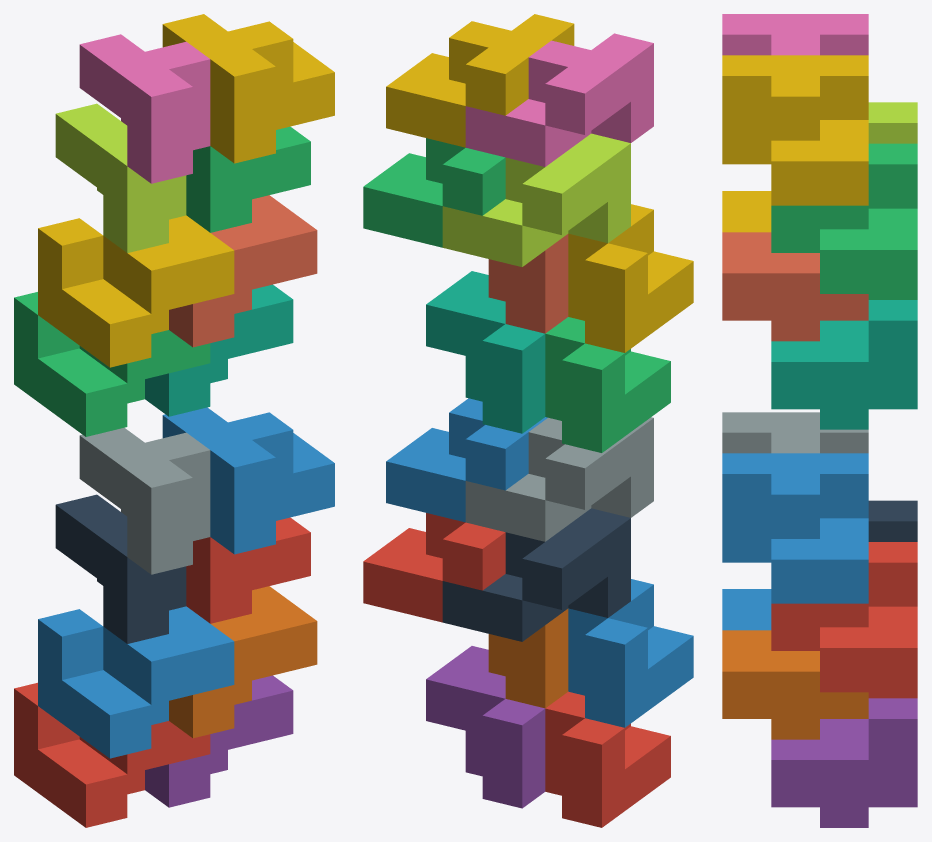
Rendered from tiling.obj.
3 renders of one model, left to right at view 1: azimuth 30°, elevation 25°; view 2: azimuth 150°, elevation 25°; view 3: azimuth 270°, elevation 25°, orthographic. The views are drawn at different scales.
Visible parts, largest first — view 1: copy_1_domain_2, copy_1_domain_4, copy_2_domain_8, copy_2_domain_6, copy_2_domain_4, copy_2_domain_2, copy_1_domain_1, copy_1_domain_3, copy_2_domain_1, copy_2_domain_3, copy_1_domain_6, copy_1_domain_8 (+4 smaller); view 2: copy_2_domain_4, copy_2_domain_1, copy_2_domain_3, copy_2_domain_2, copy_2_domain_8, copy_1_domain_2, copy_1_domain_4, copy_1_domain_7, copy_1_domain_5, copy_1_domain_1, copy_1_domain_3, copy_2_domain_6 (+4 smaller); view 3: copy_2_domain_6, copy_2_domain_8, copy_2_domain_5, copy_1_domain_7, copy_2_domain_7, copy_1_domain_5, copy_1_domain_6, copy_1_domain_8, copy_2_domain_4, copy_2_domain_2, copy_2_domain_3, copy_1_domain_2 (+2 smaller).
Boxes of the visible parts, <box> form: copy_1_domain_2: <box>38,606,234,758</box>; copy_1_domain_4: <box>38,215,234,367</box>; copy_2_domain_8: <box>162,14,334,163</box>; copy_2_domain_6: <box>162,407,334,554</box>; copy_2_domain_4: <box>79,34,210,183</box>; copy_2_domain_2: <box>79,427,210,574</box>; copy_1_domain_1: <box>14,682,210,827</box>; copy_1_domain_3: <box>14,292,210,436</box>; copy_2_domain_1: <box>55,494,186,643</box>; copy_2_domain_3: <box>55,103,186,252</box>; copy_1_domain_6: <box>169,586,317,738</box>; copy_1_domain_8: <box>169,195,317,347</box>; copy_2_domain_4: <box>465,33,653,166</box>; copy_2_domain_1: <box>442,508,630,641</box>; copy_2_domain_3: <box>442,133,630,266</box>; copy_2_domain_2: <box>465,417,653,541</box>; copy_2_domain_8: <box>386,14,574,147</box>; copy_1_domain_2: <box>568,579,693,727</box>; copy_1_domain_4: <box>568,204,693,352</box>; copy_1_domain_7: <box>426,271,545,433</box>; copy_1_domain_5: <box>426,646,545,808</box>; copy_1_domain_1: <box>545,691,670,827</box>; copy_1_domain_3: <box>545,317,670,452</box>; copy_2_domain_6: <box>386,398,547,522</box>; copy_2_domain_6: <box>722,453,868,603</box>; copy_2_domain_8: <box>722,55,868,205</box>; copy_2_domain_5: <box>771,542,917,692</box>; copy_1_domain_7: <box>771,300,917,429</box>; copy_2_domain_7: <box>771,143,917,293</box>; copy_1_domain_5: <box>771,698,917,827</box>; copy_1_domain_6: <box>722,630,868,739</box>; copy_1_domain_8: <box>722,232,868,341</box>; copy_2_domain_4: <box>722,14,868,55</box>; copy_2_domain_2: <box>722,412,868,453</box>; copy_2_domain_3: <box>868,102,917,143</box>; copy_1_domain_2: <box>722,589,771,630</box>.
Size of the model in its own units: 6 by 17 by 4.
